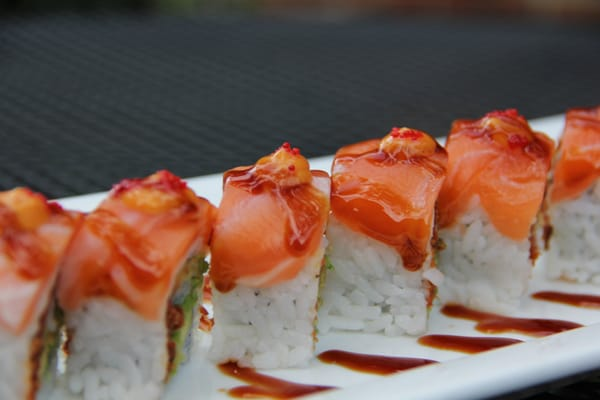sushi: (204, 142, 332, 367), (318, 124, 450, 342), (433, 108, 560, 309), (328, 125, 450, 272), (528, 105, 600, 304)
